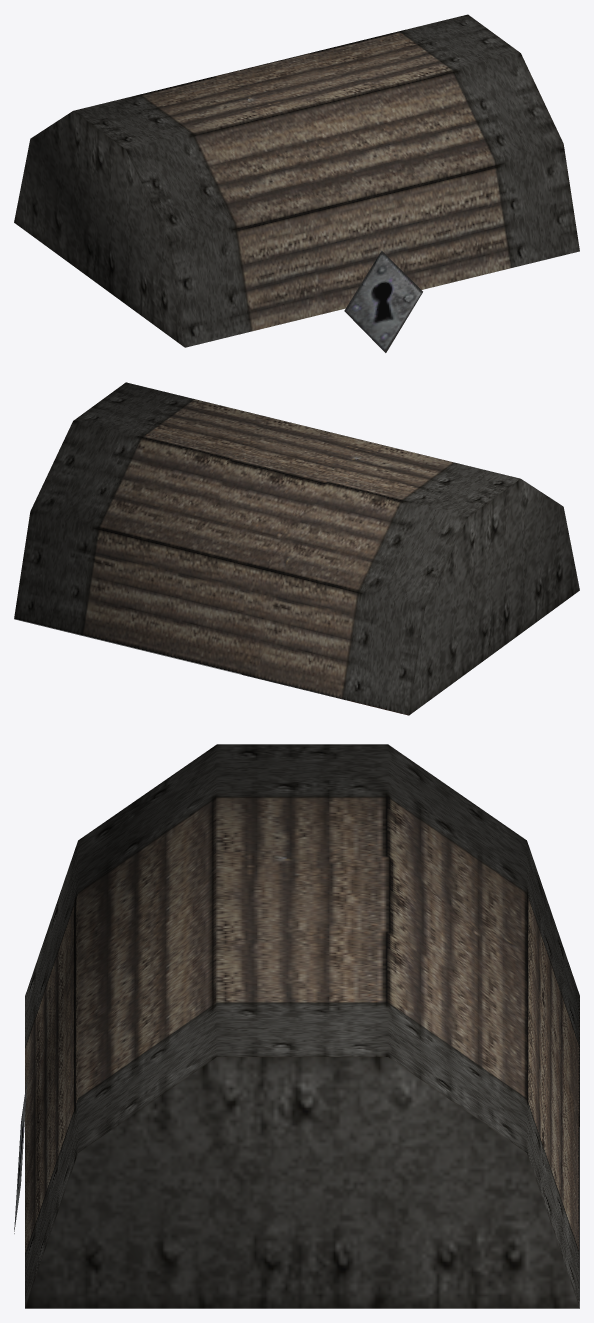
The model's file is Chest_Cover.fbx.
3 renders of one model, top to bottom at view 1: azimuth 30°, elevation 25°; view 2: azimuth 150°, elevation 25°; view 3: azimuth 270°, elevation 25°, orthographic. The views are drawn at different scales.
Visible parts, largest first — view 1: Chest_Cover; view 2: Chest_Cover; view 3: Chest_Cover.
Part boxes in pixels (x1,y1,x2,y2): Chest_Cover: (14, 14, 579, 352); Chest_Cover: (14, 382, 579, 715); Chest_Cover: (14, 744, 579, 1308).
Bounding box in the file's own units: 100 × 49.94 × 76.5.
1 material, 1 textured.
